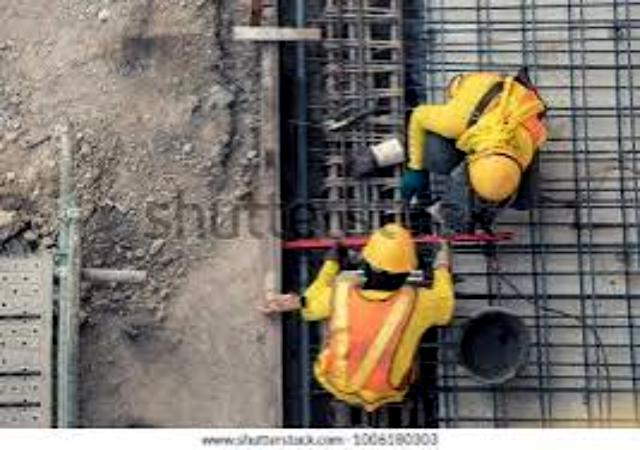helmet: (366, 224, 422, 274), (470, 148, 524, 198)
vest: (315, 271, 425, 407), (459, 65, 545, 147)
